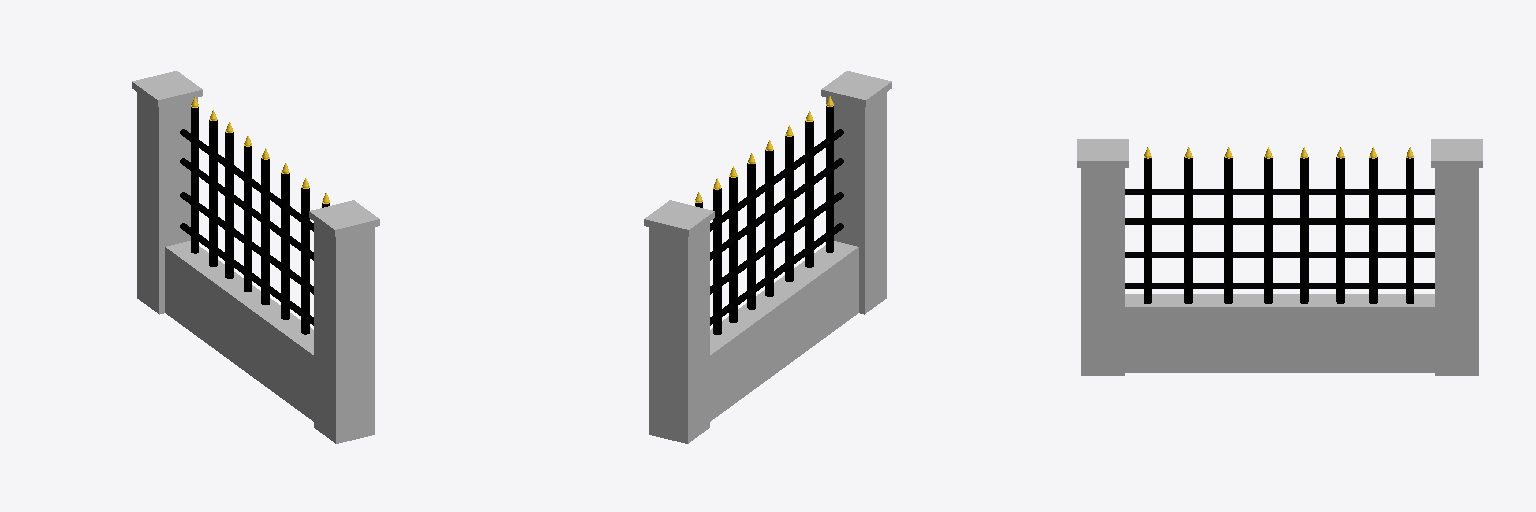
Rendered from grade.obj.
3 views of the same model, side by side, from view 1: azimuth 30°, elevation 25°; view 2: azimuth 150°, elevation 25°; view 3: azimuth 270°, elevation 25° (orthographic).
Visible parts, largest first — view 1: Cube, Cylinder; view 2: Cube, Cylinder; view 3: Cube, Cylinder.
Boxes of the visible parts, box(x1,y1,x2,y2) form: Cube: box(132, 71, 379, 443); Cylinder: box(180, 97, 329, 334); Cube: box(644, 71, 891, 443); Cylinder: box(695, 96, 843, 334); Cube: box(1077, 139, 1482, 375); Cylinder: box(1125, 147, 1434, 303).
Size of the model in its own units: 1.13 by 5.33 by 8.86.